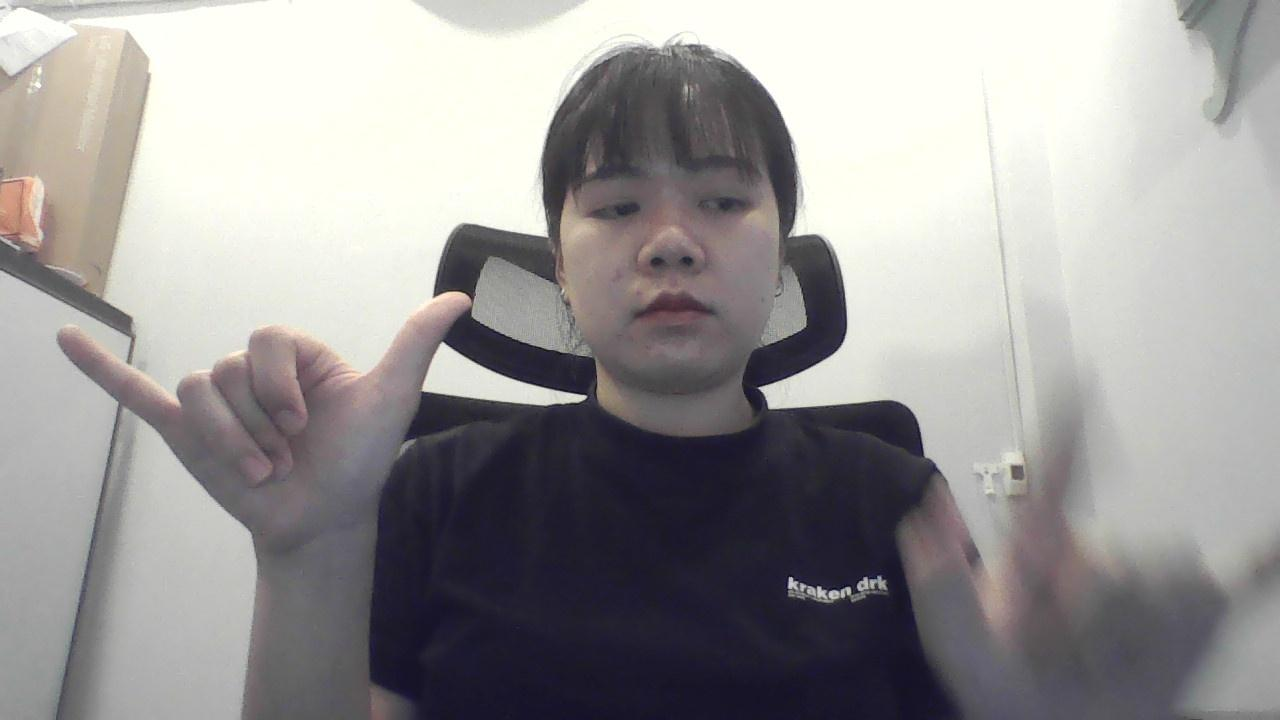Y: (41, 294, 510, 576)
